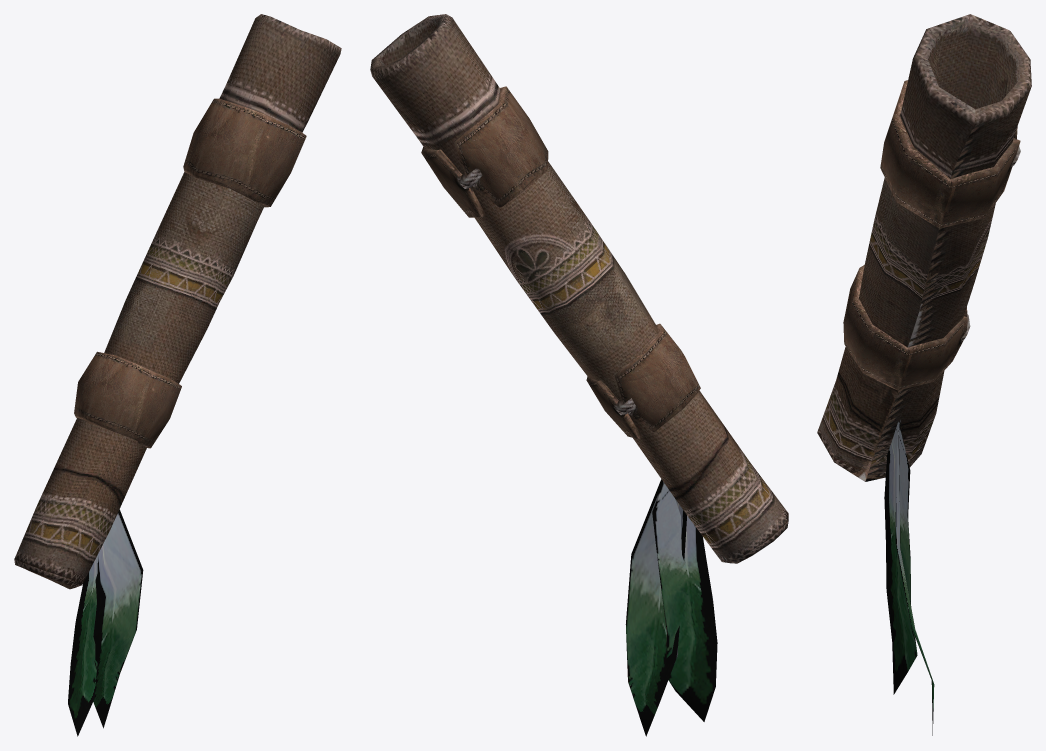
File: Quiver.fbx
The picture shows the model from 3 angles, left to right: view 1: azimuth 30°, elevation 25°; view 2: azimuth 150°, elevation 25°; view 3: azimuth 270°, elevation 25°; orthographic projection. The views are drawn at different scales.
Visible parts, largest first — view 1: default005; view 2: default005; view 3: default005.
Part boxes in pixels (x1,y1,x2,y2): default005: (14, 14, 341, 736); default005: (370, 14, 788, 736); default005: (817, 14, 1031, 735).
Bounding box in the file's own units: 33.39 × 58.71 × 13.67.
Materials: 1 (1 with a texture image).
